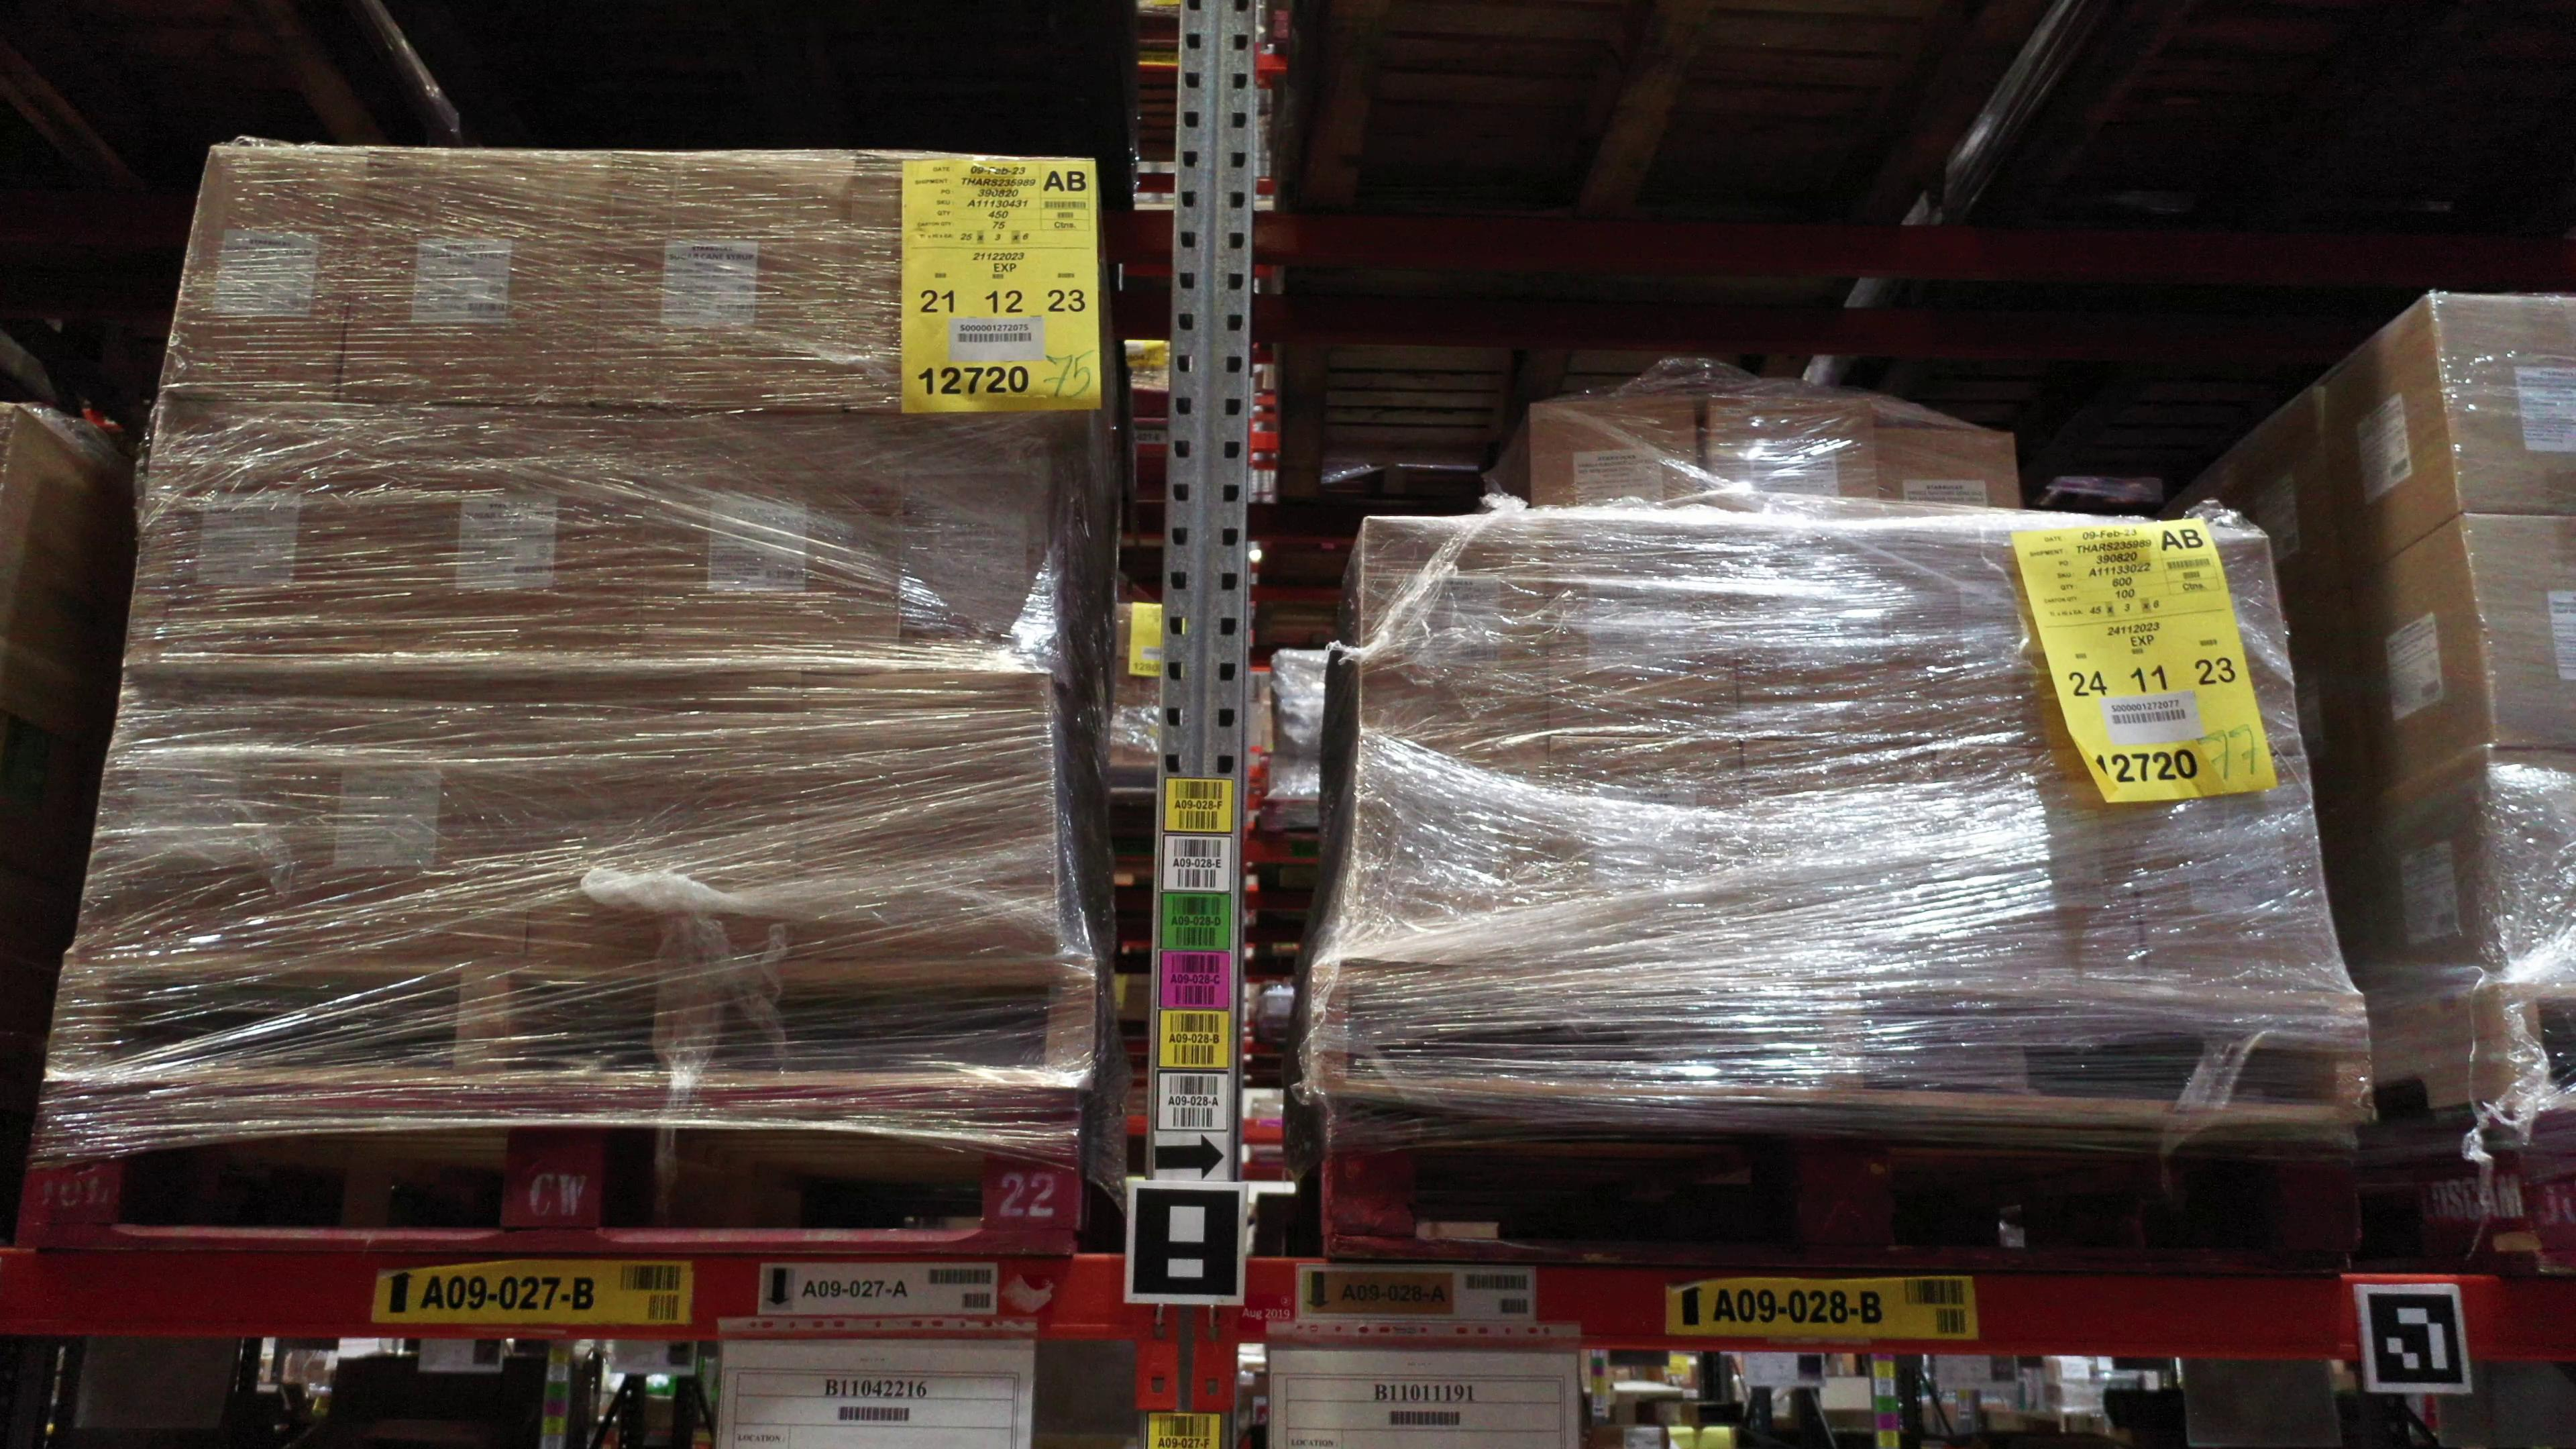-: (119, 396, 414, 678), (525, 681, 807, 973), (274, 679, 545, 968), (384, 403, 660, 678), (341, 143, 617, 412), (794, 672, 1051, 961), (633, 405, 899, 672), (600, 150, 856, 416), (74, 676, 311, 957), (839, 147, 1083, 414), (159, 142, 379, 409), (1925, 747, 2151, 989), (2125, 754, 2344, 994), (1545, 740, 1755, 980), (1536, 518, 1744, 747), (1743, 747, 1946, 980), (1350, 745, 1553, 975), (1921, 527, 2121, 752), (881, 412, 1049, 679), (1734, 525, 1932, 752), (1357, 515, 1550, 745), (2109, 533, 2298, 761), (2431, 294, 2576, 511), (2459, 511, 2576, 754), (2491, 754, 2576, 994)
box: (1527, 391, 1709, 518), (1709, 393, 1882, 524), (1879, 425, 2022, 531)
